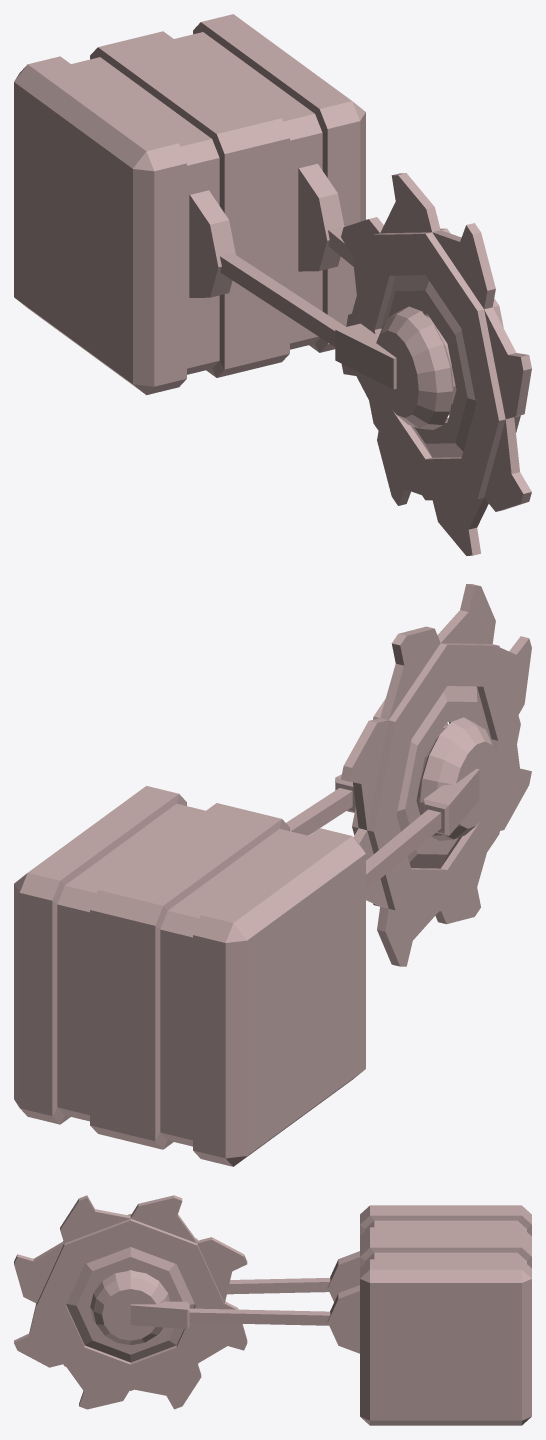
Rendered from saw.fbx.
3 renders of one model, top to bottom at view 1: azimuth 30°, elevation 25°; view 2: azimuth 150°, elevation 25°; view 3: azimuth 270°, elevation 25°, orthographic. The views are drawn at different scales.
Visible parts, largest first — view 1: Cube.004, Cylinder.018, Cylinder.003; view 2: Cube.004, Cylinder.018, Cylinder.003; view 3: Cube.004, Cylinder.018, Cylinder.003.
Boxes of the visible parts, x1,y1,x2,y2 form: Cube.004: (14, 14, 365, 395); Cylinder.018: (341, 173, 531, 555); Cylinder.003: (189, 163, 456, 429); Cube.004: (14, 786, 365, 1166); Cylinder.018: (341, 584, 531, 966); Cylinder.003: (286, 717, 498, 890); Cube.004: (360, 1205, 531, 1425); Cylinder.018: (14, 1195, 247, 1409); Cylinder.003: (90, 1251, 359, 1353).
Size of the model in its own units: 180 by 244 by 540.
